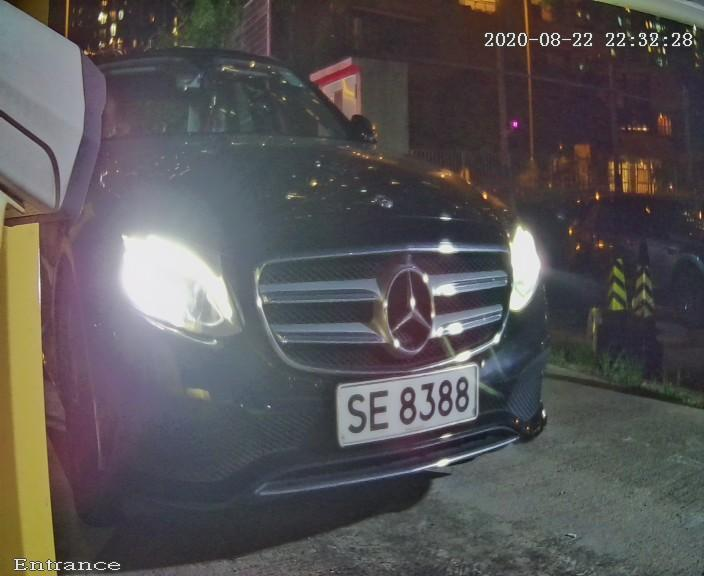Car: (4, 11, 573, 561)
License Plate: (299, 338, 497, 475)
